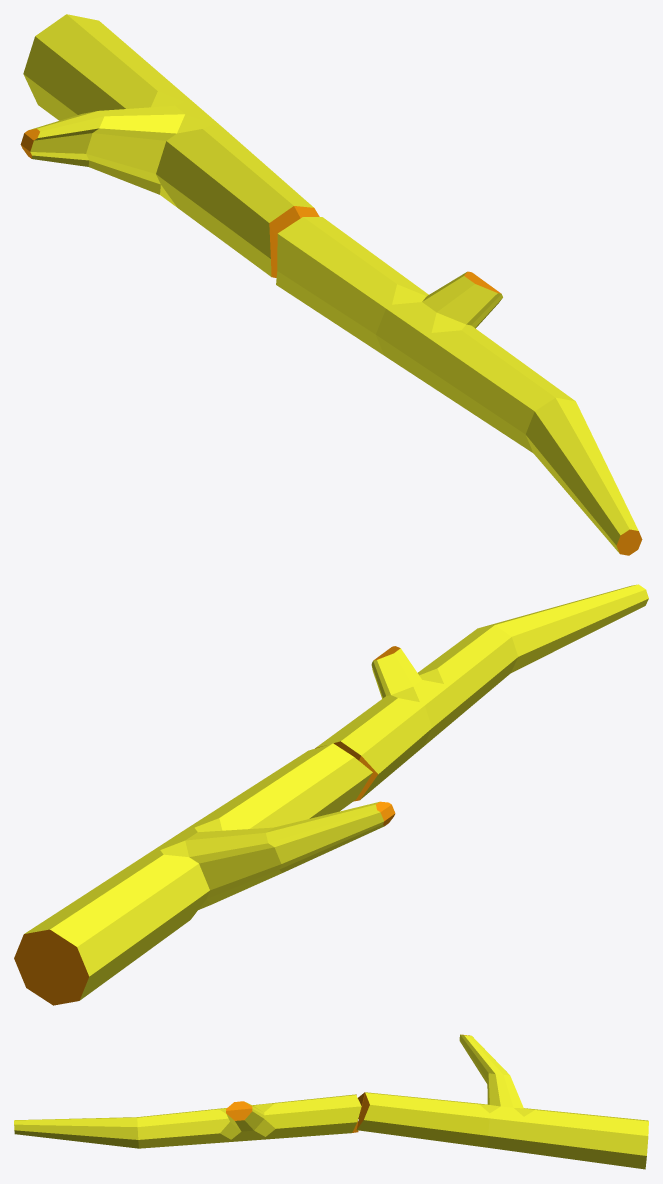
The model's file is Stick_36.fbx.
3 views of the same model, one above another, from view 1: azimuth 30°, elevation 25°; view 2: azimuth 150°, elevation 25°; view 3: azimuth 270°, elevation 25° (orthographic). The views are drawn at different scales.
Visible parts, largest first — view 1: Circle.331, Circle.325; view 2: Circle.325, Circle.331; view 3: Circle.325, Circle.331.
Part boxes in pixels (x1=…): Circle.331: x1=276, y1=217, x2=642, y2=555; Circle.325: x1=20, y1=14, x2=319, y2=277; Circle.325: x1=14, y1=743, x2=395, y2=1005; Circle.331: x1=315, y1=584, x2=648, y2=801; Circle.325: x1=356, y1=1034, x2=648, y2=1169; Circle.331: x1=14, y1=1094, x2=361, y2=1148.
Bounding box in the file's own units: 10.19 × 5.9 × 41.42.
